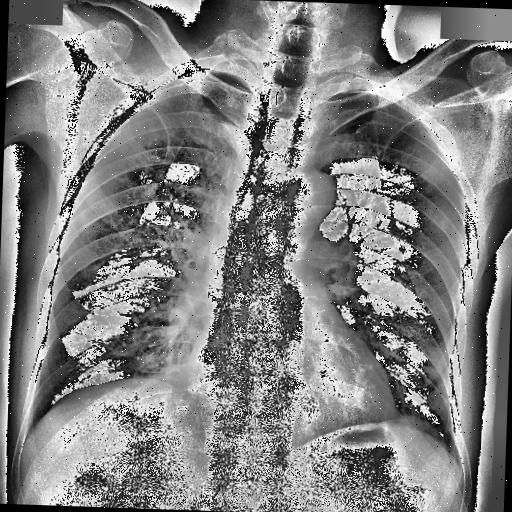0- Aortic enlargement: (280, 168, 340, 220), (297, 170, 336, 214)
6- Infiltration: (390, 380, 434, 432)
7- Lung Opacity: (118, 332, 186, 372), (390, 380, 434, 432)
8- Nodule-Mass: (439, 220, 448, 230), (440, 219, 448, 229)
9- Other lesion: (439, 220, 448, 230)
